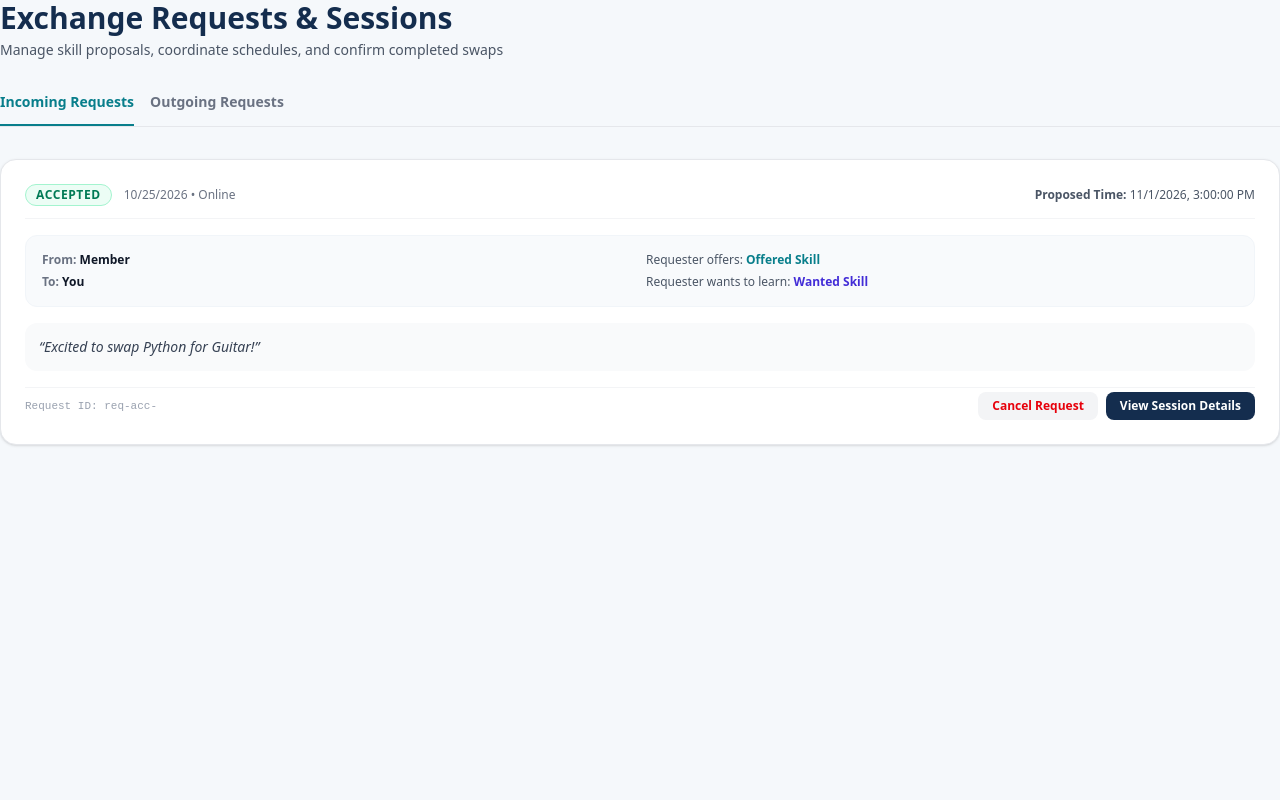
Test: SkillSwap Frontend Integration & Contract Tests › RequestsPage: Contract, Sessions & Cancellation › fetches session by request id using getExchangeRequestSession and displays details
Click the button "View Session Details".
click(1180, 406)  # box [1106,392,1255,420]
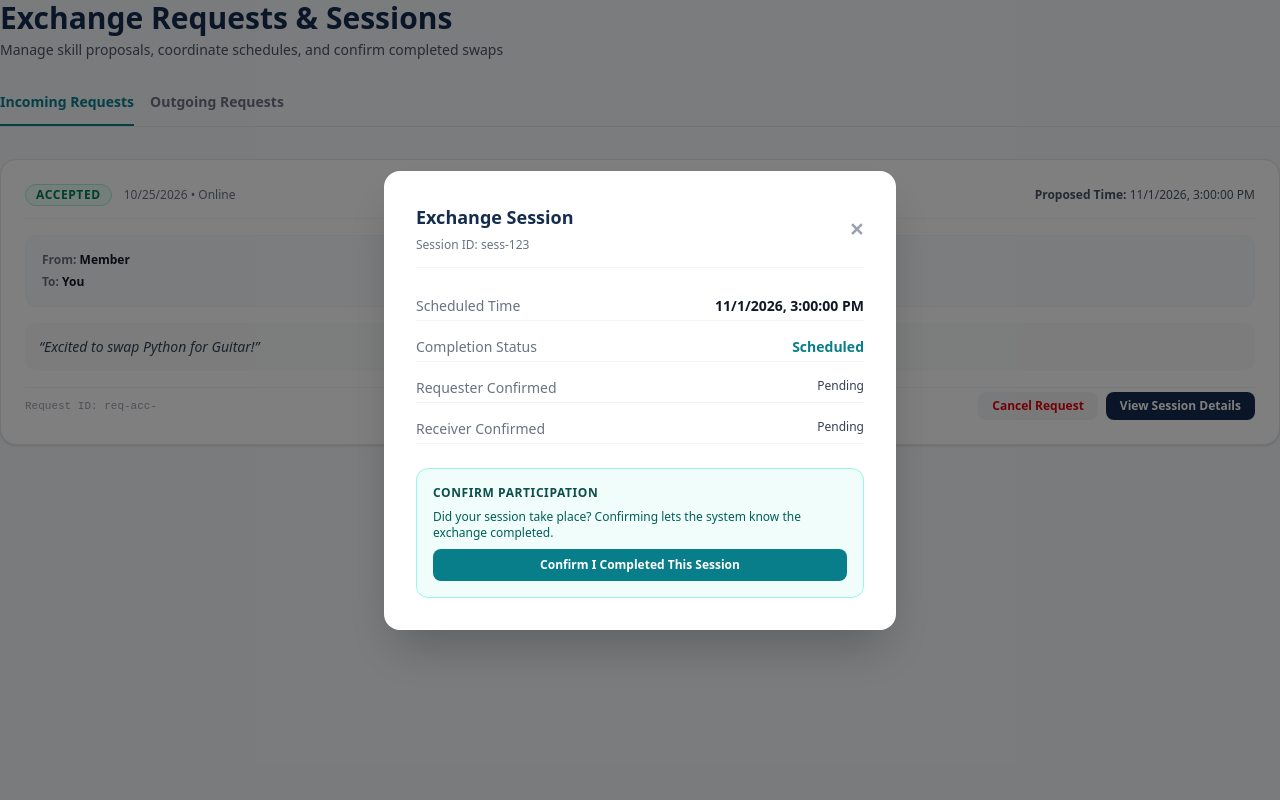
Check: the heading "Exchange Session" is shown, box [416,202,574,230]
Check: the button "Confirm I Completed This Session" is shown, box [433,548,847,580]
